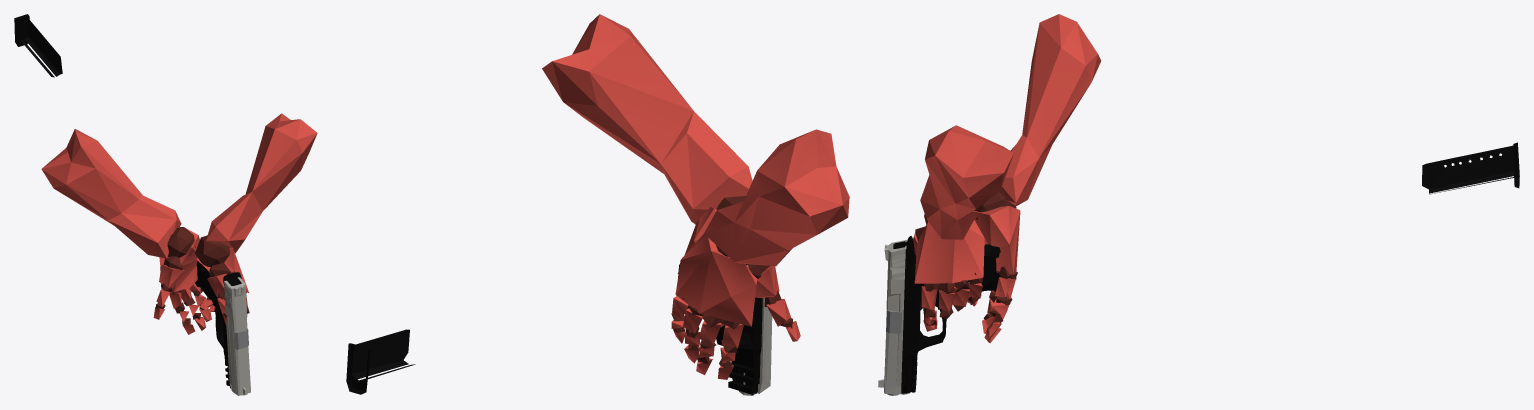
The model's file is M&P9reloadNormal1lowP_000145.obj.
3 views of the same model, side by side, from view 1: azimuth 30°, elevation 25°; view 2: azimuth 150°, elevation 25°; view 3: azimuth 270°, elevation 25° (orthographic). The views are drawn at different scales.
Visible parts, largest first — view 1: Beta_Surface.001_Beta_Surface.002, Beta_Joints.001_Beta_Joints.002, slide_平面.002, magazine_平面.003, triger_平面.001; view 2: Beta_Surface.001_Beta_Surface.002, magazine_平面.003, triger_平面.001, Beta_Joints.001_Beta_Joints.002, slide_平面.002; view 3: Beta_Surface.001_Beta_Surface.002, triger_平面.001, magazine_平面.003, slide_平面.002, Beta_Joints.001_Beta_Joints.002.
Part boxes in pixels (left/top/right/bottom): Beta_Surface.001_Beta_Surface.002: left=41, top=113, right=317, bottom=334; Beta_Joints.001_Beta_Joints.002: left=156, top=227, right=249, bottom=325; slide_平面.002: left=224, top=277, right=250, bottom=395; magazine_平面.003: left=14, top=14, right=62, bottom=77; triger_平面.001: left=195, top=261, right=248, bottom=395; Beta_Surface.001_Beta_Surface.002: left=542, top=14, right=849, bottom=379; magazine_平面.003: left=346, top=329, right=415, bottom=394; triger_平面.001: left=688, top=297, right=762, bottom=394; Beta_Joints.001_Beta_Joints.002: left=671, top=196, right=792, bottom=368; slide_平面.002: left=739, top=298, right=772, bottom=395; Beta_Surface.001_Beta_Surface.002: left=913, top=14, right=1101, bottom=343; triger_平面.001: left=886, top=236, right=1000, bottom=395; magazine_平面.003: left=1422, top=142, right=1519, bottom=194; slide_平面.002: left=878, top=239, right=910, bottom=394; Beta_Joints.001_Beta_Joints.002: left=915, top=192, right=1017, bottom=327.
Size of the model in its own units: 69.29 by 70.8 by 131.
